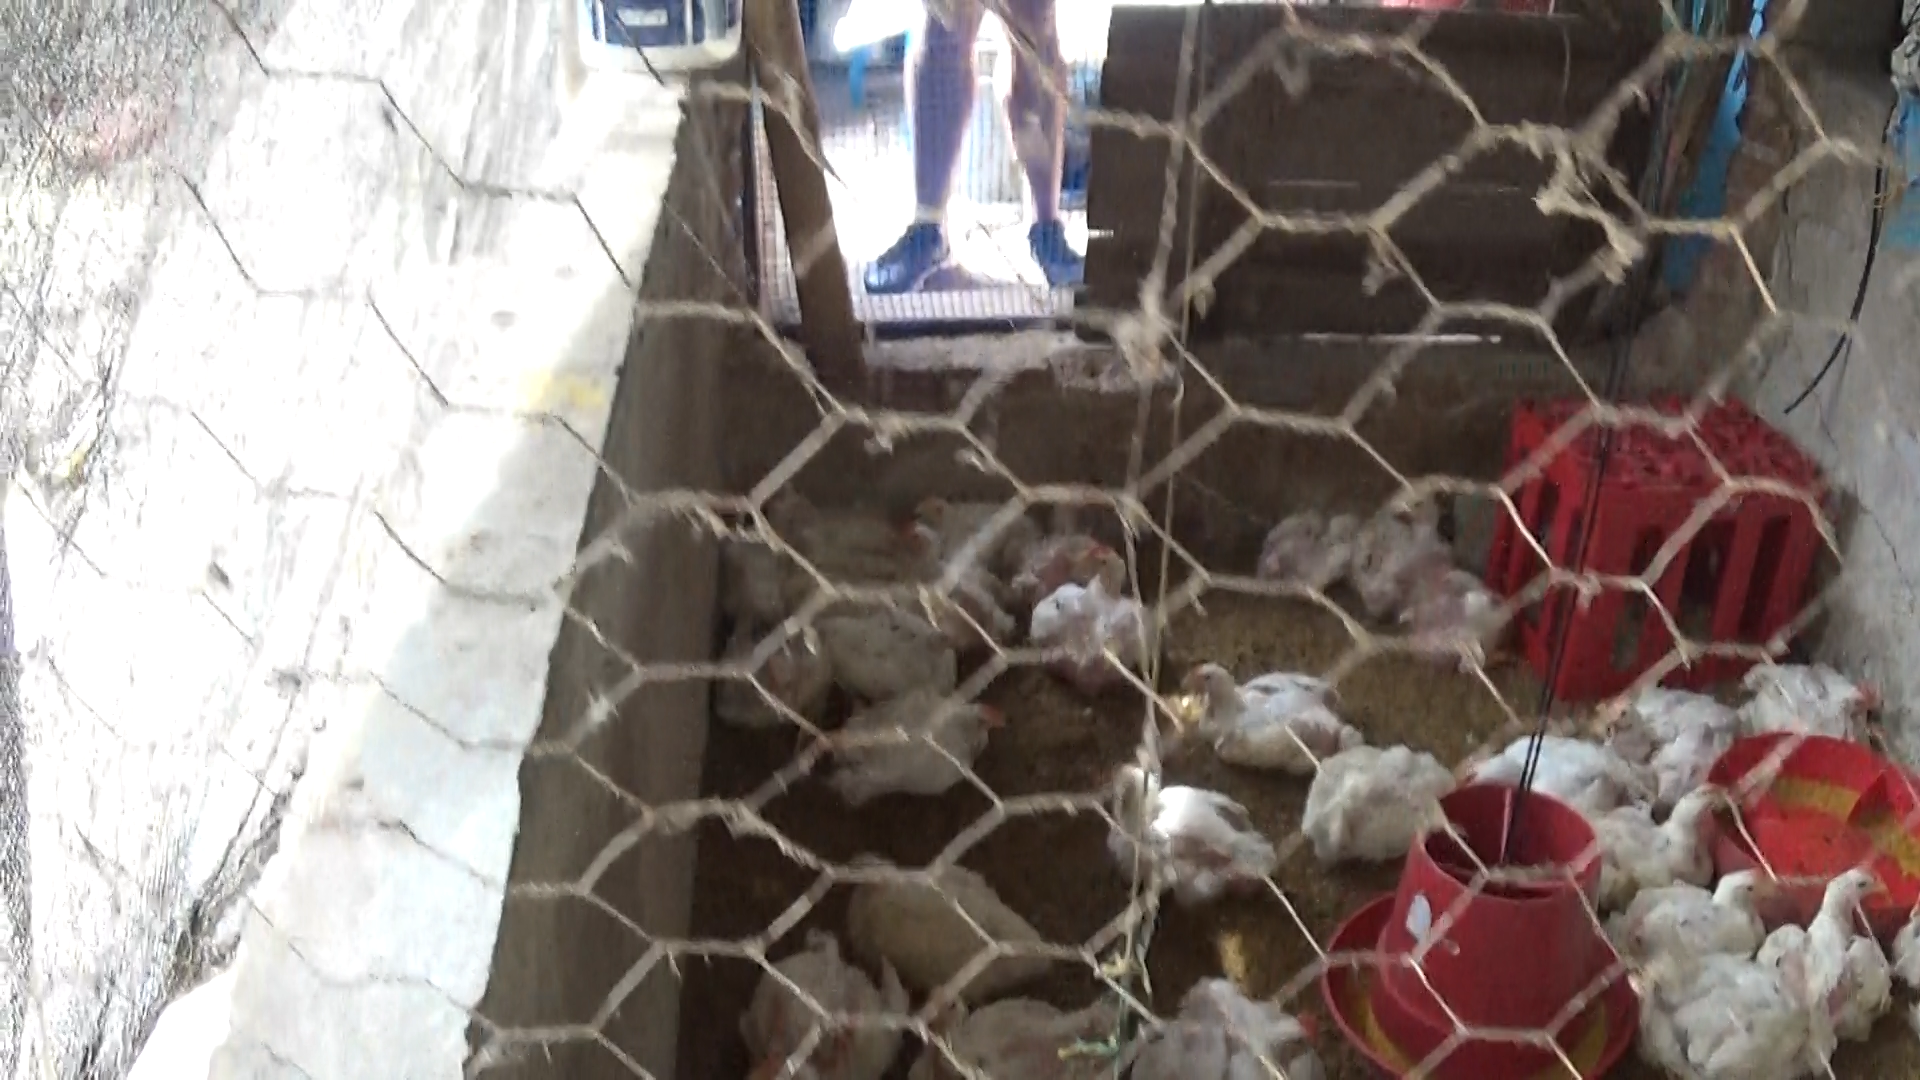Pollos: (1643, 931, 1845, 1075), (831, 847, 1051, 975), (1110, 762, 1276, 902), (893, 982, 1130, 1080), (735, 939, 901, 1069), (1313, 732, 1458, 880), (822, 687, 1004, 803), (1461, 702, 1631, 808), (1135, 992, 1335, 1080), (1182, 651, 1342, 760), (1580, 778, 1739, 877), (1602, 682, 1756, 783), (1031, 560, 1146, 680), (1762, 646, 1886, 753), (890, 492, 1042, 578), (1386, 572, 1513, 667), (1631, 873, 1776, 949), (760, 495, 880, 583), (1257, 488, 1377, 574), (829, 622, 961, 688), (1791, 877, 1876, 957)
